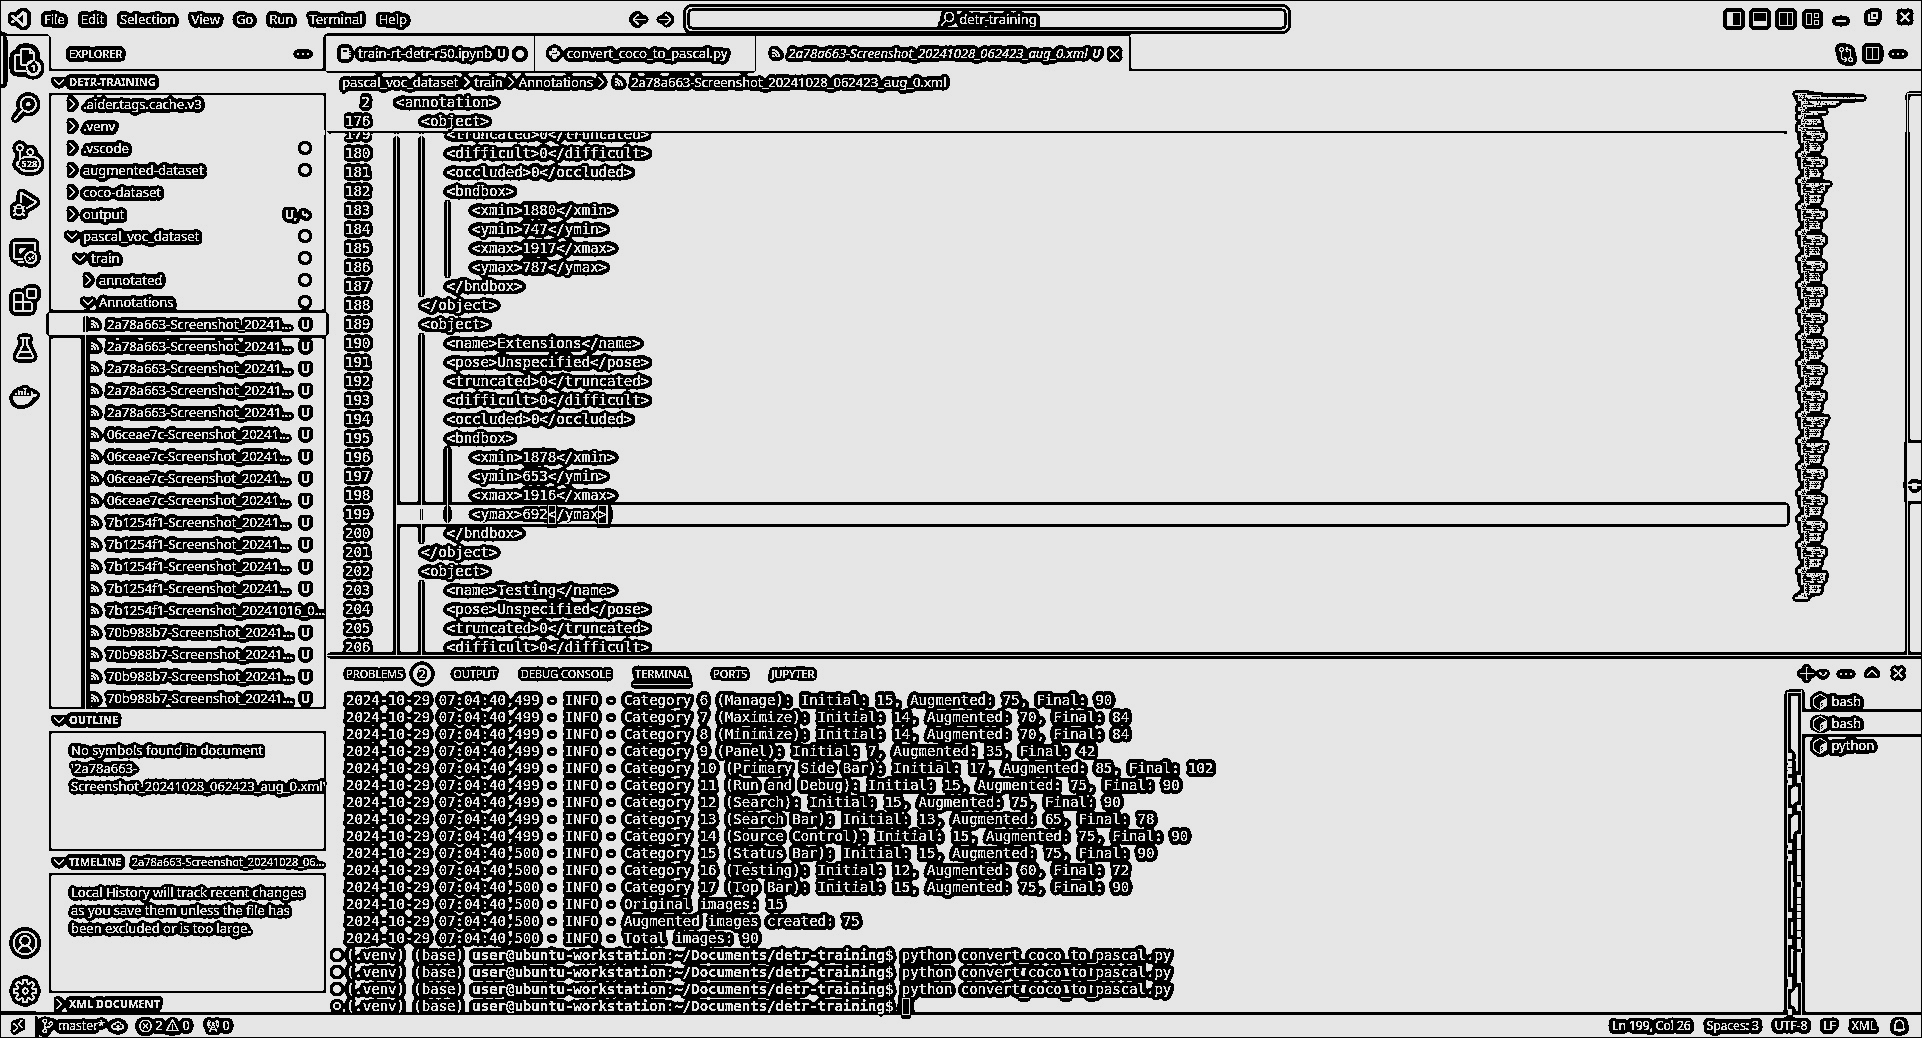Accounts: (4, 926, 43, 959)
Activity Bar: (0, 37, 45, 1012)
Close: (1891, 1, 1915, 26)
Editor: (332, 37, 1919, 658)
Explorer: (7, 37, 44, 77)
Extensions: (4, 281, 38, 317)
Manage: (4, 970, 43, 1009)
Maximize: (1858, 4, 1886, 26)
Minimize: (1828, 4, 1852, 28)
Panel: (328, 656, 1919, 1017)
Primary Side Bar: (43, 40, 328, 1016)
Run and Debug: (6, 183, 43, 223)
Search: (7, 87, 41, 127)
Search Bar: (680, 3, 1293, 36)
Source Control: (4, 133, 43, 179)
Status Bar: (1, 1014, 1919, 1035)
Testing: (4, 328, 41, 362)
Top Bar: (3, 1, 1919, 37)
